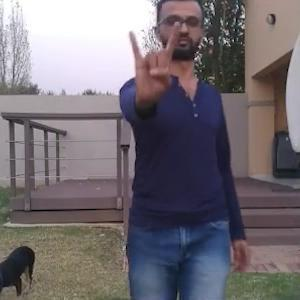takeoff-hand: (120, 18, 185, 111)
